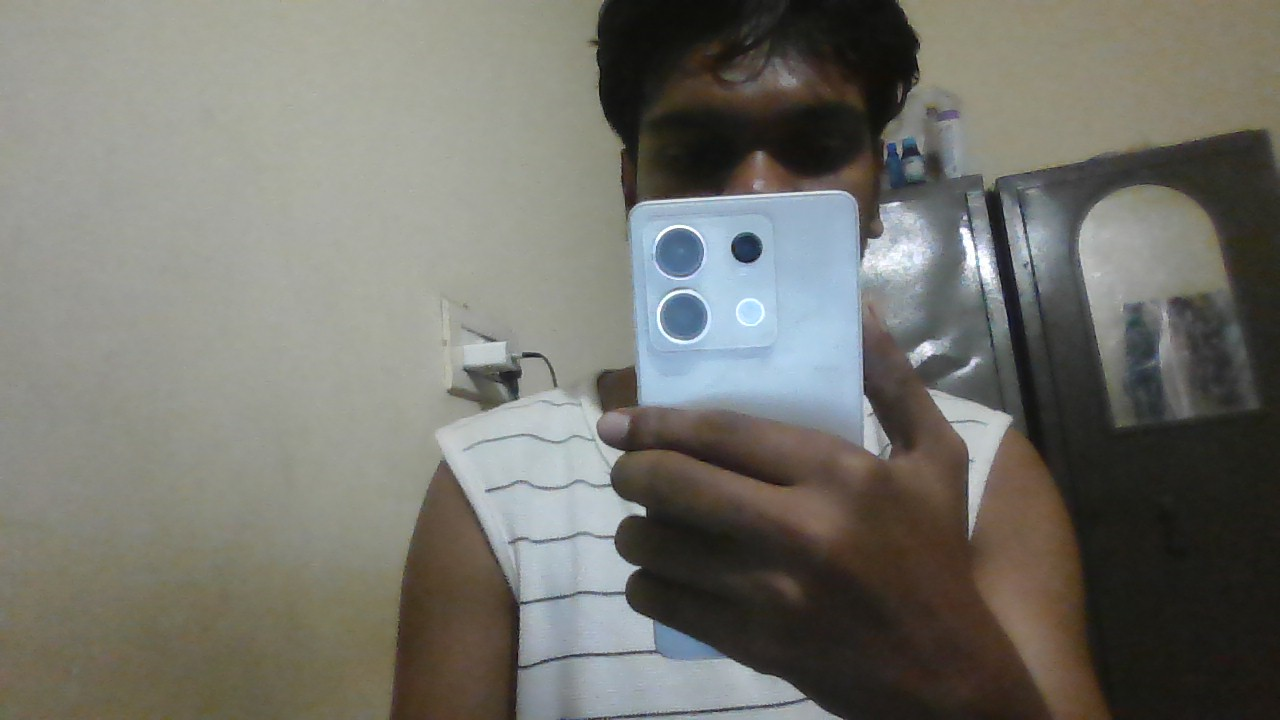phone: (632, 194, 864, 410)
